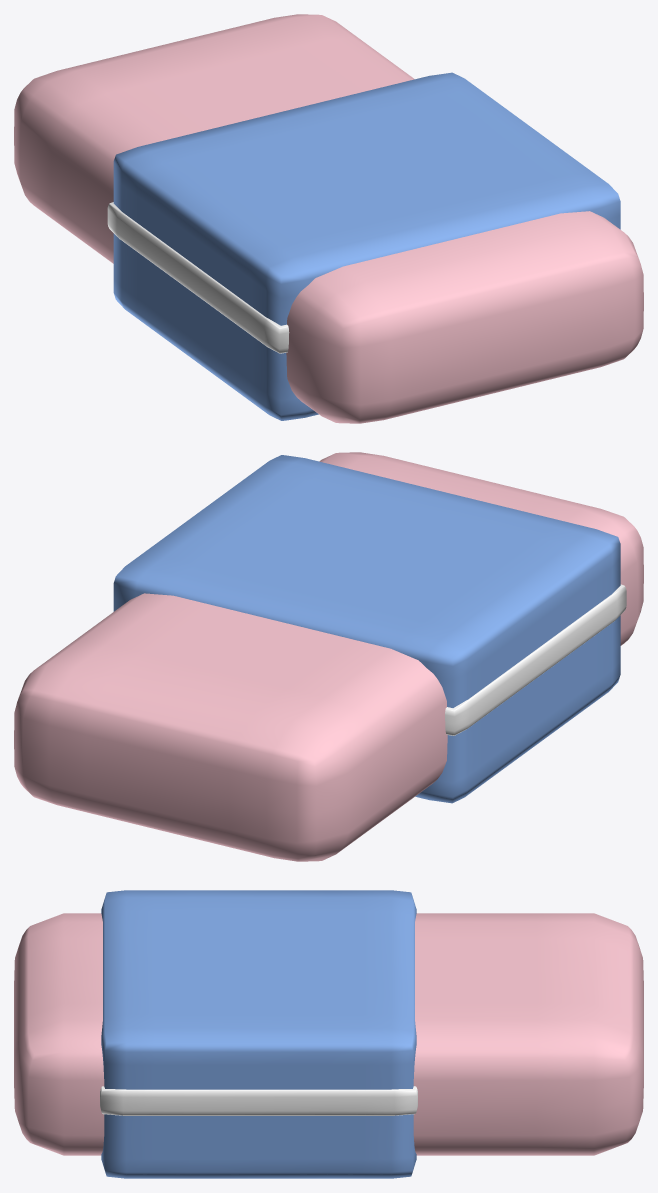
Rendered from TraceRaceEraser.glb.
The picture shows the model from 3 angles, top to bottom: view 1: azimuth 30°, elevation 25°; view 2: azimuth 150°, elevation 25°; view 3: azimuth 270°, elevation 25°; orthographic projection. The views are drawn at different scales.
Visible parts, largest first — view 1: Rubber, Sleeve, Stripe; view 2: Rubber, Sleeve, Stripe; view 3: Sleeve, Rubber, Stripe.
Boxes of the visible parts, x1,y1,x2,y2 form: Rubber: [14, 14, 643, 423]; Sleeve: [113, 72, 620, 420]; Stripe: [107, 202, 289, 353]; Rubber: [14, 452, 643, 861]; Sleeve: [113, 455, 620, 803]; Stripe: [445, 584, 626, 735]; Sleeve: [101, 890, 416, 1178]; Rubber: [14, 913, 643, 1155]; Stripe: [100, 1086, 417, 1115].
Size of the model in its own units: 10.7 by 4.5 by 18.
